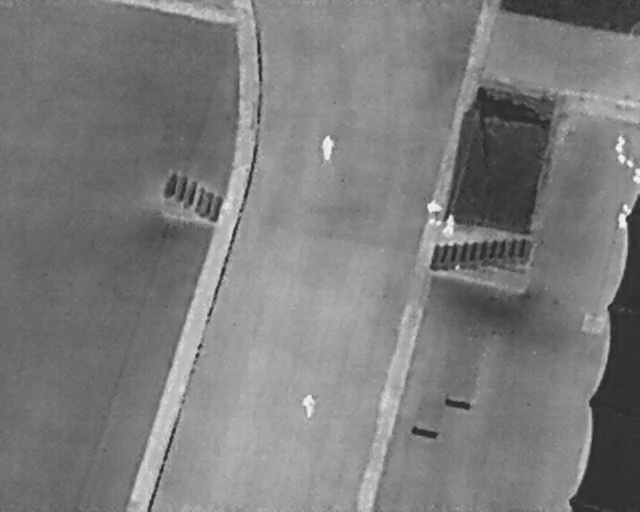Person: (300, 391, 317, 420), (426, 199, 443, 226), (442, 213, 458, 240), (321, 133, 334, 162), (616, 211, 628, 232), (621, 202, 632, 215)
